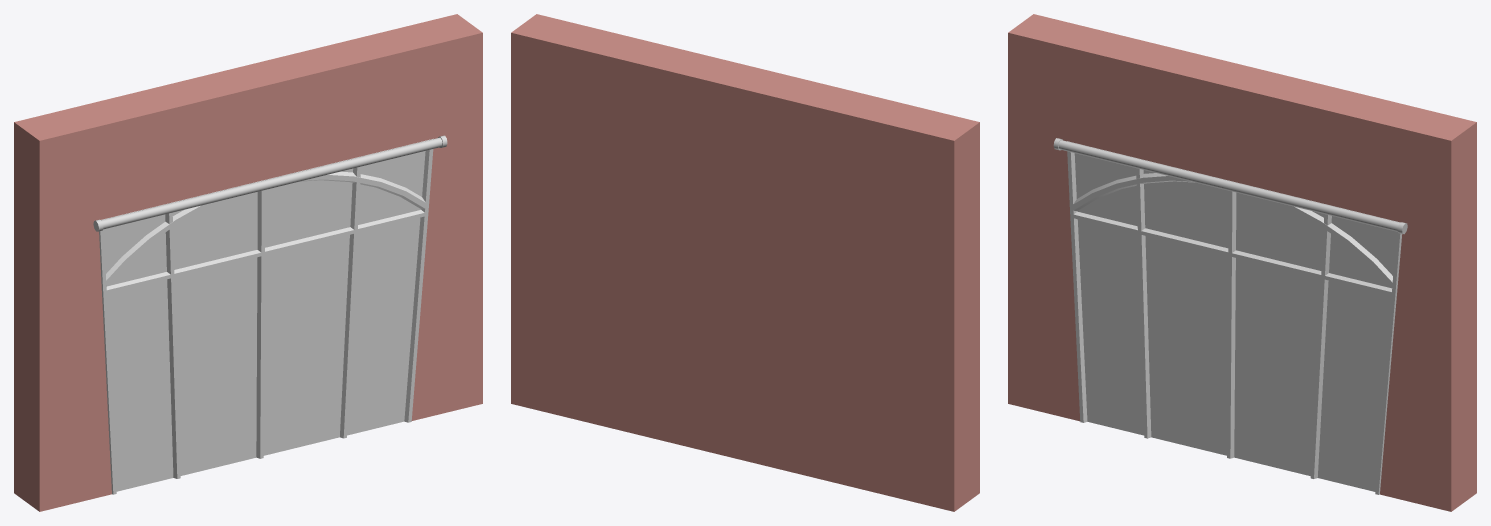
Rendered from SM_Modular_ShopWindow.fbx.
The picture shows the model from 3 angles, left to right: view 1: azimuth 30°, elevation 25°; view 2: azimuth 150°, elevation 25°; view 3: azimuth 330°, elevation 25°; orthographic projection.
Visible parts, largest first — view 1: Wall_5x4.006, WindowOuter.002; view 2: Wall_5x4.006; view 3: Wall_5x4.006, WindowOuter.002.
Boxes of the visible parts, <box> form: Wall_5x4.006: <box>14,14,482,511</box>; WindowOuter.002: <box>93,135,447,494</box>; Wall_5x4.006: <box>511,14,979,511</box>; Wall_5x4.006: <box>1008,14,1476,511</box>; WindowOuter.002: <box>1053,138,1407,494</box>.
Bounding box in the file's own units: 500 × 400 × 63.54.
